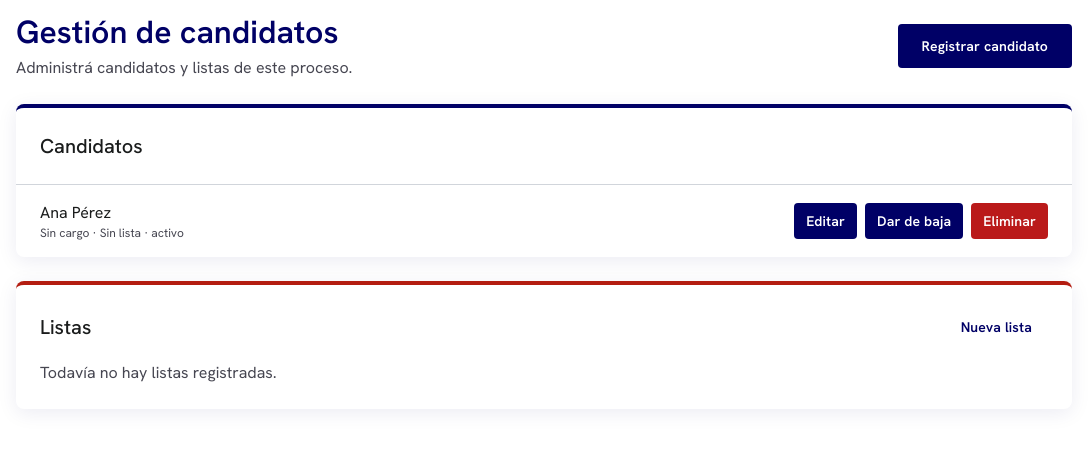
Test: GestionCandidatosPage › borrar un candidato con 409 ENTIDAD_CON_DEPENDIENTES muestra un error legible, sin crash
Expected: the text "Ana Pérez" is shown, x1=40 y1=202 x2=111 y2=223
What coordinates should you click on to do the following:
click the button "Eliminar"
I would click on:
 (1010, 221)
Its box is x1=971 y1=203 x2=1048 y2=239.
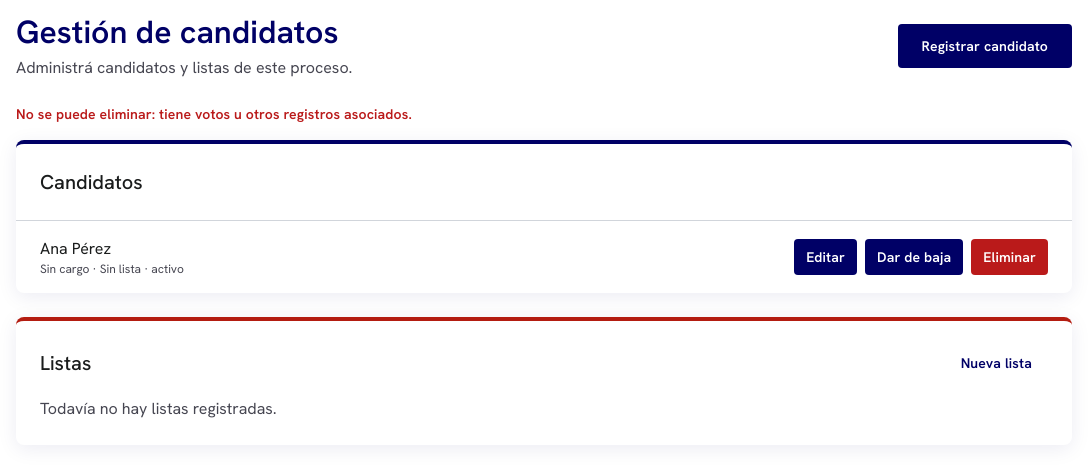
Expected: the text "Ana Pérez" is shown, x1=40 y1=238 x2=111 y2=259
Now the message shows "No se puede eliminar", box x1=16 y1=105 x2=412 y2=123
